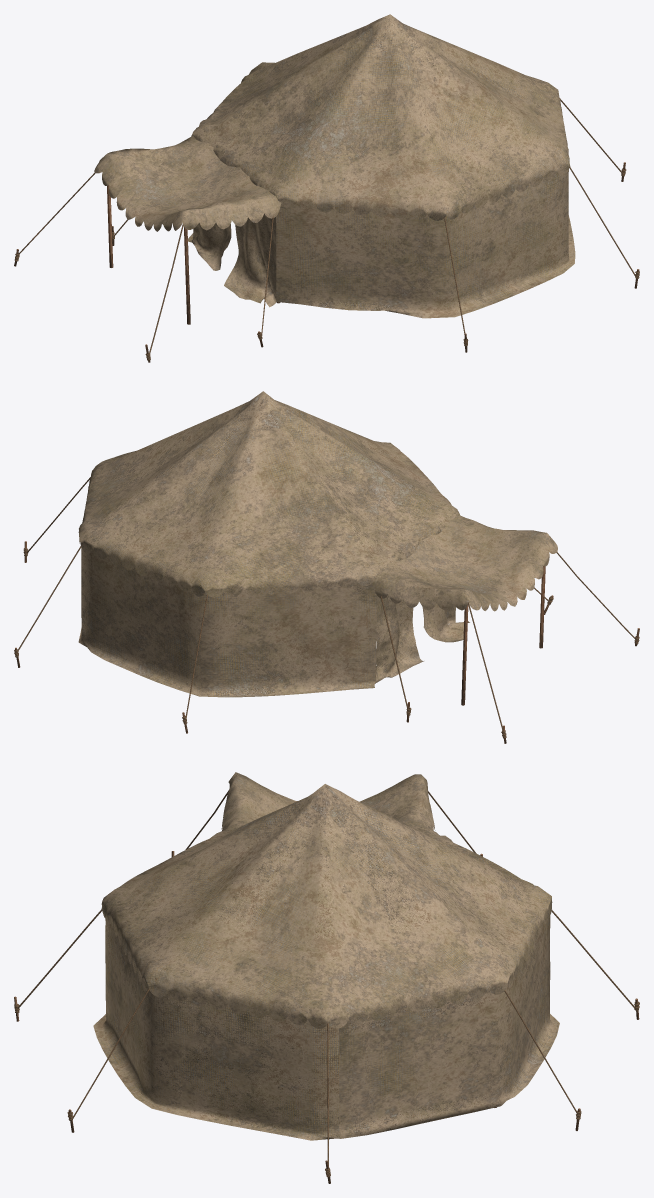
File: SM_Tent_C.fbx
3 views of the same model, one above another, from view 1: azimuth 30°, elevation 25°; view 2: azimuth 150°, elevation 25°; view 3: azimuth 270°, elevation 25° (orthographic). The views are drawn at different scales.
Parts seen in each view (by area): view 1: SM_Tent_C_LOD0; view 2: SM_Tent_C_LOD0; view 3: SM_Tent_C_LOD0.
Boxes of the visible parts, x1,y1,x2,y2 form: SM_Tent_C_LOD0: (14,14,639,362); SM_Tent_C_LOD0: (14,391,639,743); SM_Tent_C_LOD0: (14,772,639,1183).
Bounding box in the file's own units: 1326 × 1120 × 532.
4 materials, 4 textured.
